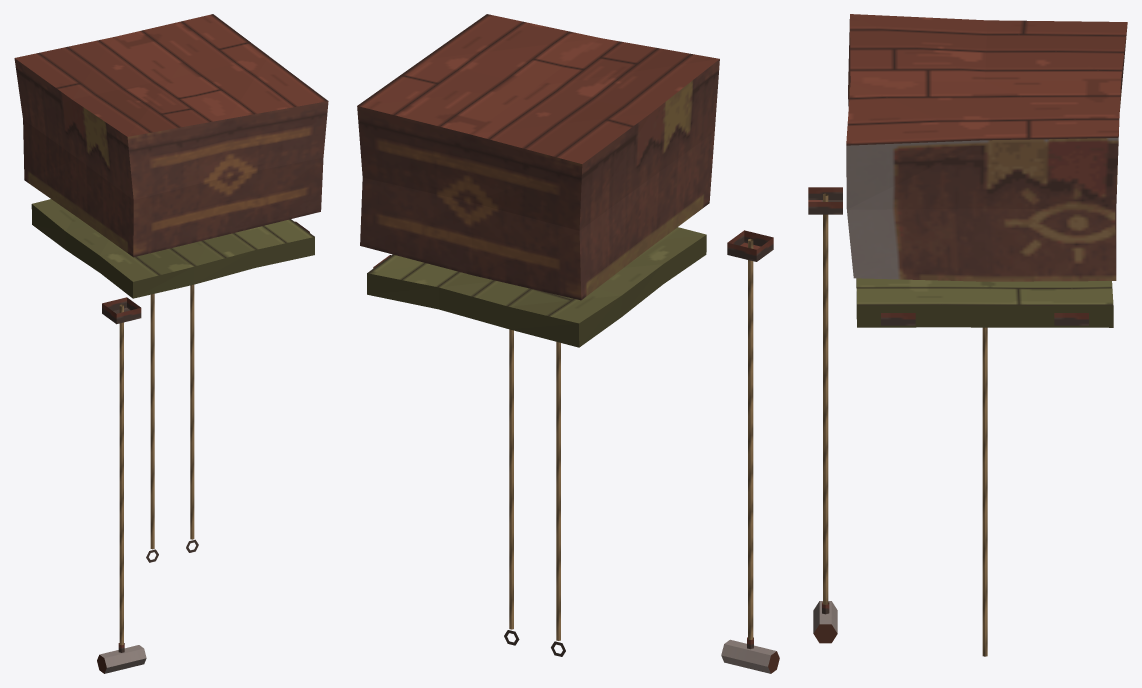
Rendered from SM_CeilingRig.fbx.
3 views of the same model, side by side, from view 1: azimuth 30°, elevation 25°; view 2: azimuth 150°, elevation 25°; view 3: azimuth 270°, elevation 25° (orthographic). The views are drawn at different scales.
Visible parts, largest first — view 1: Rig_Housing, Rig_HatchPanel, Rig_PullRope, Rig_Cable_R, Rig_Cable_L, Rig_PullHandle, Rig_PullBracket; view 2: Rig_Housing, Rig_HatchPanel, Rig_PullRope, Rig_Cable_L, Rig_Cable_R, Rig_PullHandle, Rig_PullBracket; view 3: Rig_Housing, Rig_HatchPanel, Rig_PullRope, Rig_Cable_L, Rig_PullBracket, Rig_PullHandle.
Part boxes in pixels (x1,y1,x2,y2): Rig_Housing: [14, 14, 328, 257]; Rig_HatchPanel: [31, 199, 314, 298]; Rig_PullRope: [119, 304, 123, 645]; Rig_Cable_R: [150, 294, 154, 549]; Rig_Cable_L: [190, 284, 194, 539]; Rig_PullHandle: [97, 643, 146, 673]; Rig_PullBracket: [102, 297, 141, 324]; Rig_Housing: [357, 14, 719, 300]; Rig_HatchPanel: [367, 227, 706, 347]; Rig_PullRope: [748, 239, 753, 639]; Rig_Cable_L: [509, 329, 513, 629]; Rig_Cable_R: [556, 342, 560, 640]; Rig_PullHandle: [721, 637, 779, 673]; Rig_PullBracket: [727, 230, 773, 261]; Rig_Housing: [846, 14, 1127, 281]; Rig_HatchPanel: [856, 278, 1113, 327]; Rig_PullRope: [823, 193, 828, 604]; Rig_Cable_L: [982, 327, 987, 656]; Rig_PullBracket: [808, 187, 842, 214]; Rig_PullHandle: [813, 601, 837, 643].
Bounding box in the file's own units: 0.9459 × 2 × 0.9213.
